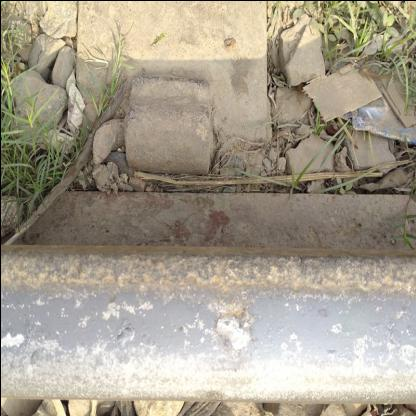Defective 1: (84, 30, 238, 212)
